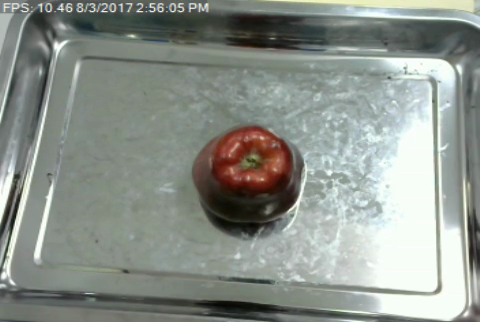Apple: (186, 121, 312, 231)
